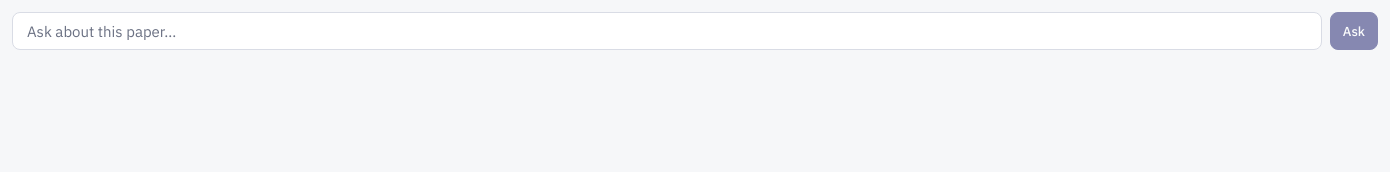
Test case: AskPanel › says when the answer came from the abstract only
In the field named "Question about this paper": (667, 31) [12,12,1322,50], type "Anything?"
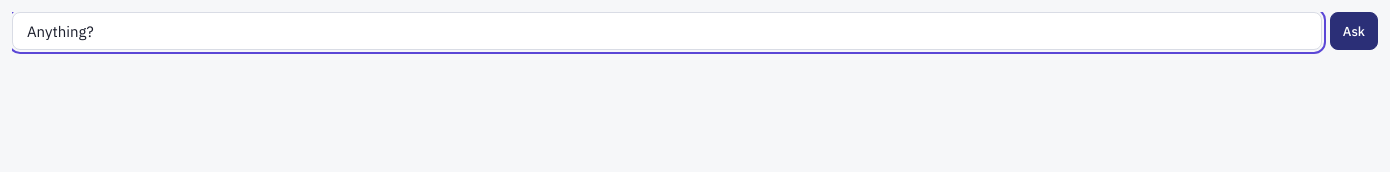
Click the button "Ask": (1354, 31) [1330,12,1378,50]
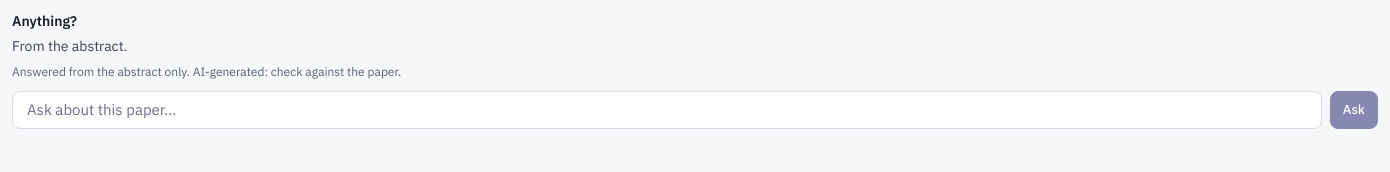
Expected: the text "Answered from the abstract only." is shown, [12,64,190,79]
